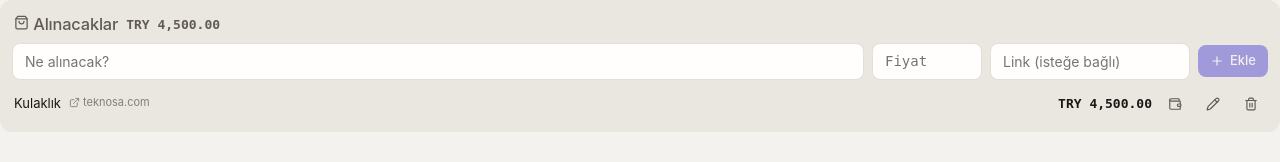
Scenario: editing an item › changes nothing when it is cancelled
This screenshot has width=1280, height=162.
Click the button "Kulaklık" at (38,104), box [14, 94, 61, 113]
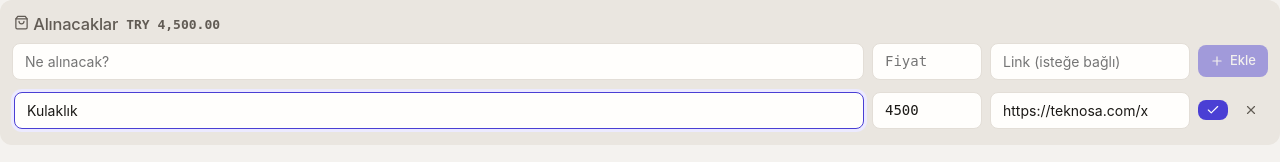
Replace the text in the field named "Ne alınacak" with "Başka bir şey" at (439,110), box [14, 92, 864, 129]
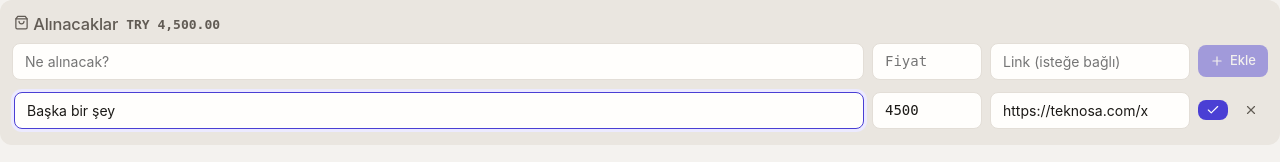
Click the button named "İptal" at (1251,110), box [1236, 100, 1266, 120]
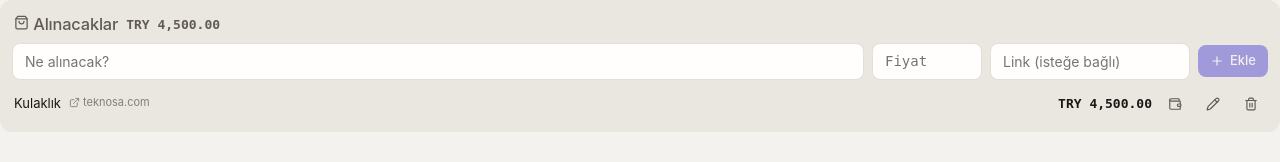
Check: the button "Kulaklık" is shown, box [14, 94, 61, 113]
